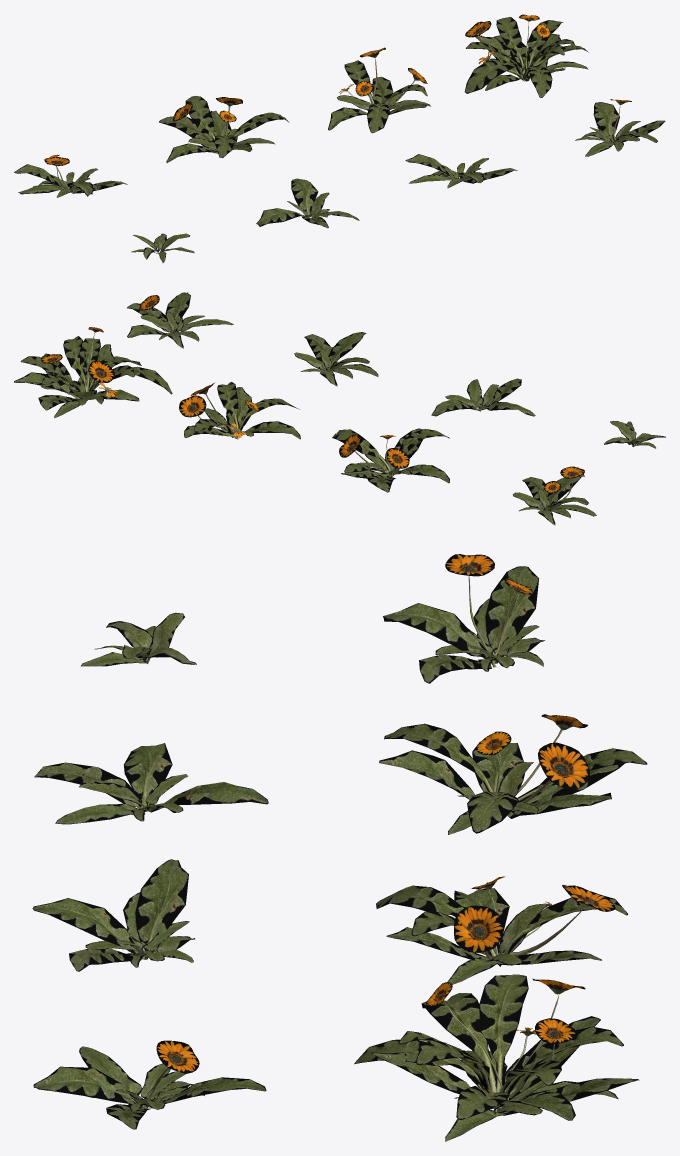
File: gazania.glb
The picture shows the model from 3 angles, top to bottom: view 1: azimuth 30°, elevation 25°; view 2: azimuth 150°, elevation 25°; view 3: azimuth 270°, elevation 25°; orthographic projection. The views are drawn at different scales.
Parts seen in each view (by area): view 1: flower_gazania_h_LOD0, flower_gazania_f_LOD0, flower_gazania_g_LOD0, flower_gazania_d_LOD0, flower_gazania_b_LOD0, flower_gazania_e_LOD0, flower_gazania_c_LOD0, flower_gazania_a_LOD0; view 2: flower_gazania_h_LOD0, flower_gazania_g_LOD0, flower_gazania_f_LOD0, flower_gazania_d_LOD0, flower_gazania_e_LOD0, flower_gazania_c_LOD0, flower_gazania_b_LOD0, flower_gazania_a_LOD0; view 3: flower_gazania_h_LOD0, flower_gazania_f_LOD0, flower_gazania_g_LOD0, flower_gazania_e_LOD0, flower_gazania_c_LOD0, flower_gazania_d_LOD0, flower_gazania_b_LOD0, flower_gazania_a_LOD0.
Part boxes in pixels (<box>): flower_gazania_h_LOD0: <box>464,14,588,97</box>; flower_gazania_f_LOD0: <box>159,96,289,162</box>; flower_gazania_g_LOD0: <box>328,47,430,133</box>; flower_gazania_d_LOD0: <box>575,99,665,156</box>; flower_gazania_b_LOD0: <box>256,178,359,228</box>; flower_gazania_e_LOD0: <box>14,154,127,197</box>; flower_gazania_c_LOD0: <box>405,154,517,188</box>; flower_gazania_a_LOD0: <box>131,233,194,262</box>; flower_gazania_h_LOD0: <box>14,327,172,418</box>; flower_gazania_g_LOD0: <box>179,382,300,439</box>; flower_gazania_f_LOD0: <box>332,428,449,492</box>; flower_gazania_d_LOD0: <box>127,292,233,348</box>; flower_gazania_e_LOD0: <box>512,466,596,525</box>; flower_gazania_c_LOD0: <box>294,332,378,386</box>; flower_gazania_b_LOD0: <box>431,378,535,416</box>; flower_gazania_a_LOD0: <box>604,421,665,448</box>; flower_gazania_h_LOD0: <box>354,974,639,1141</box>; flower_gazania_f_LOD0: <box>379,714,647,834</box>; flower_gazania_g_LOD0: <box>376,876,627,984</box>; flower_gazania_e_LOD0: <box>383,554,544,683</box>; flower_gazania_c_LOD0: <box>32,859,194,971</box>; flower_gazania_d_LOD0: <box>33,1040,266,1129</box>; flower_gazania_b_LOD0: <box>34,743,268,824</box>; flower_gazania_a_LOD0: <box>81,612,196,666</box>.
Bounding box in the file's own units: 1.48 × 0.1655 × 0.7028.
1 material, 1 textured.
